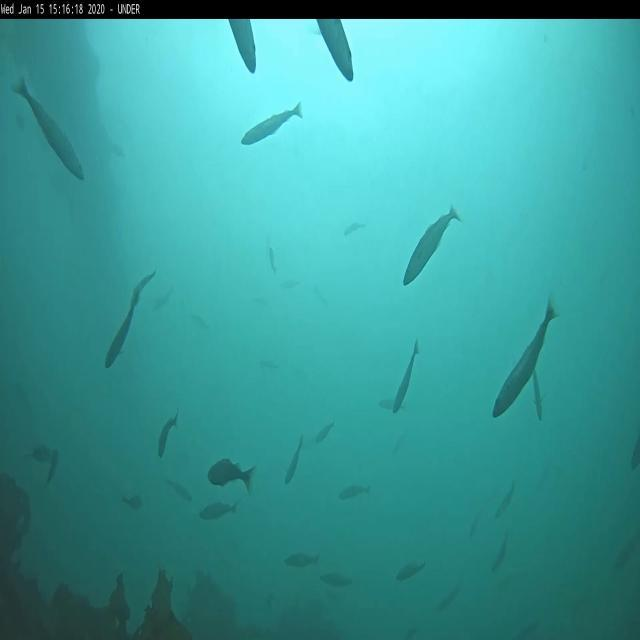fish: (12, 78, 86, 184), (494, 297, 557, 418), (404, 205, 461, 284), (106, 286, 140, 370), (242, 102, 308, 143), (316, 20, 355, 81), (392, 338, 420, 412), (207, 458, 255, 490), (228, 19, 255, 71), (156, 408, 179, 458), (130, 268, 156, 310), (285, 434, 303, 486), (494, 481, 516, 516), (198, 504, 238, 522), (435, 586, 459, 614), (165, 480, 194, 500), (284, 552, 320, 568), (395, 562, 424, 581), (318, 571, 352, 587), (492, 535, 507, 570), (534, 370, 544, 420), (338, 485, 369, 500), (315, 421, 334, 443), (121, 492, 141, 512), (345, 220, 367, 237), (378, 400, 406, 410), (268, 251, 278, 275), (631, 441, 639, 471)
